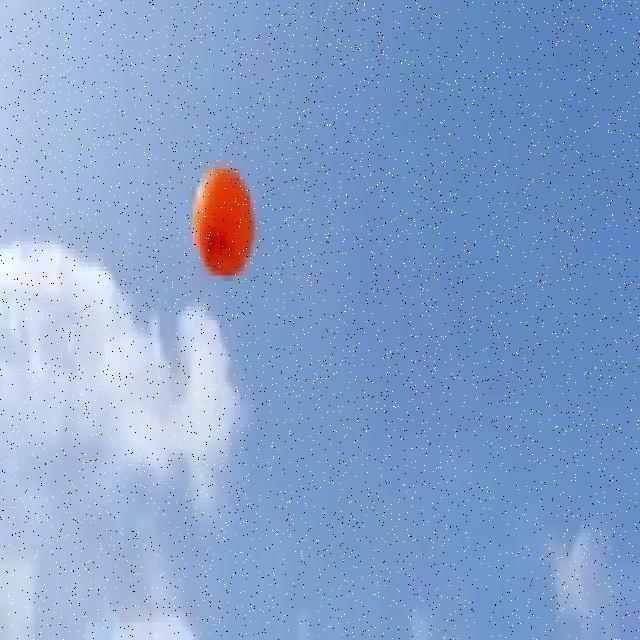red: (192, 166, 254, 276)
